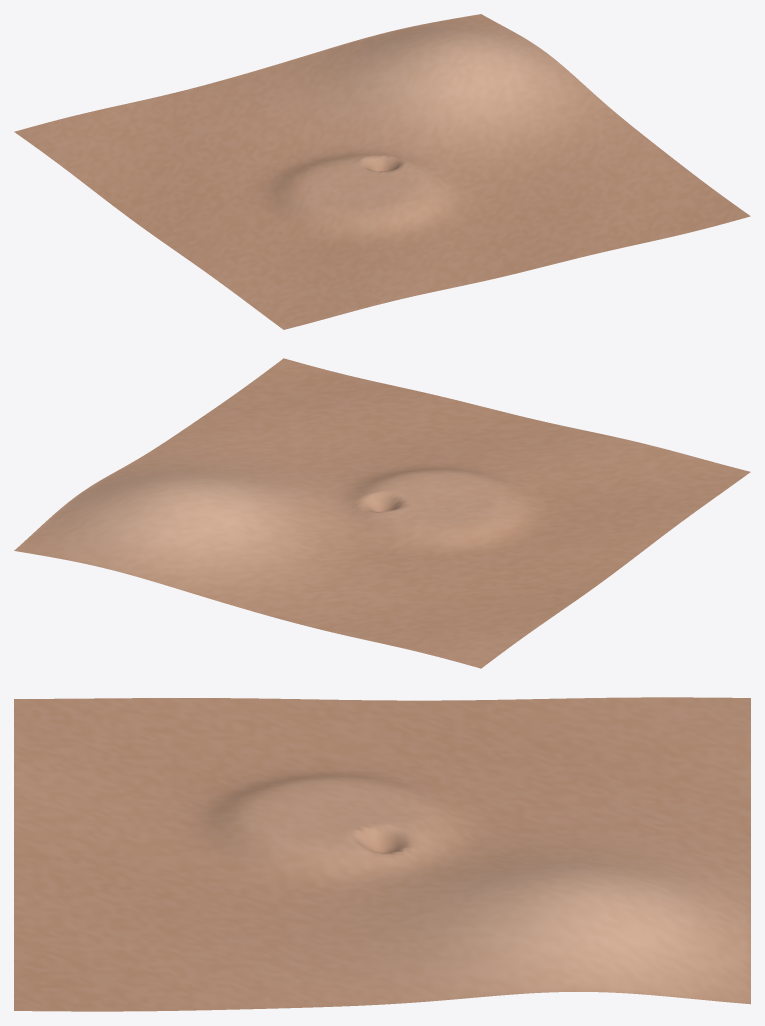
Rendered from spirit_gusev_homeplate.glb.
3 views of the same model, one above another, from view 1: azimuth 30°, elevation 25°; view 2: azimuth 150°, elevation 25°; view 3: azimuth 270°, elevation 25° (orthographic). The views are drawn at different scales.
Visible parts, largest first — view 1: TYPE_TILE_ID_0___MD_1_Spirit_Columbia_Hills_HomePlate; view 2: TYPE_TILE_ID_0___MD_1_Spirit_Columbia_Hills_HomePlate; view 3: TYPE_TILE_ID_0___MD_1_Spirit_Columbia_Hills_HomePlate.
Boxes of the visible parts, bbox=[...] form: TYPE_TILE_ID_0___MD_1_Spirit_Columbia_Hills_HomePlate: bbox=[14, 14, 750, 329]; TYPE_TILE_ID_0___MD_1_Spirit_Columbia_Hills_HomePlate: bbox=[14, 358, 750, 668]; TYPE_TILE_ID_0___MD_1_Spirit_Columbia_Hills_HomePlate: bbox=[14, 697, 750, 1011].
Size of the model in its own units: 120 by 9.69 by 120.
